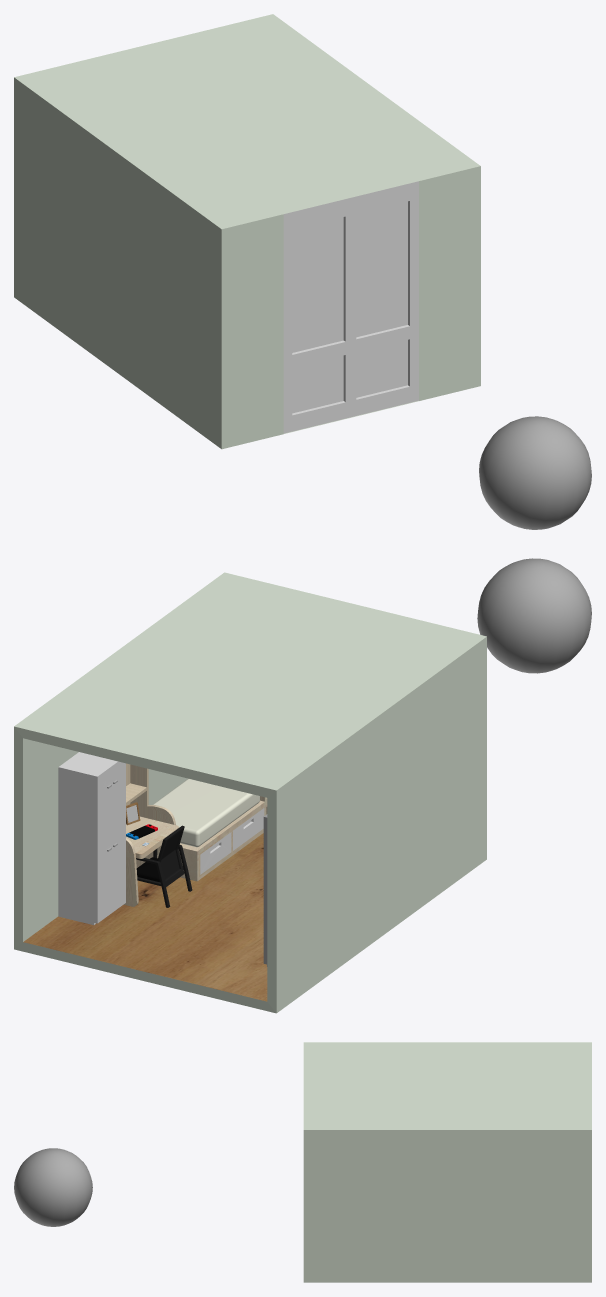
File: ilsin0412.fbx
3 renders of one model, top to bottom at view 1: azimuth 30°, elevation 25°; view 2: azimuth 150°, elevation 25°; view 3: azimuth 270°, elevation 25°, orthographic. The views are drawn at different scales.
Parts seen in each view (by area): view 1: polySurface22, pCube25, pSphere1, pCube27, pCube26, pCube28, pCube29; view 2: polySurface22, polySurface1, pSphere1, pCube36, polySurface3, polySurface5, polySurface15, polySurface2; view 3: polySurface22, pSphere1.
Part boxes in pixels (box(x1,y1,x2,y2)): polySurface22: box(14, 14, 480, 449); pCube25: box(283, 181, 418, 433); pSphere1: box(479, 416, 591, 529); pCube27: box(292, 217, 343, 352); pCube26: box(356, 201, 407, 337); pCube28: box(292, 355, 343, 413); pCube29: box(356, 340, 407, 397); polySurface22: box(14, 572, 486, 1013); polySurface1: box(58, 752, 125, 925); pSphere1: box(477, 558, 591, 673); pCube36: box(153, 778, 259, 847); polySurface3: box(124, 763, 178, 906); polySurface5: box(179, 796, 267, 881); polySurface15: box(157, 825, 184, 886); polySurface2: box(263, 814, 267, 966); polySurface22: box(303, 1042, 591, 1282); pSphere1: box(14, 1148, 92, 1226).
Bounding box in the file's own units: 34.19 × 27.74 × 95.18.
